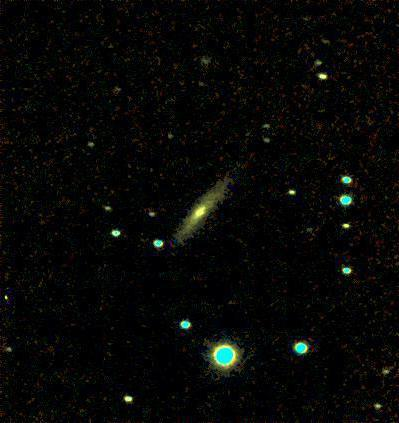star: (0, 282, 24, 312)
